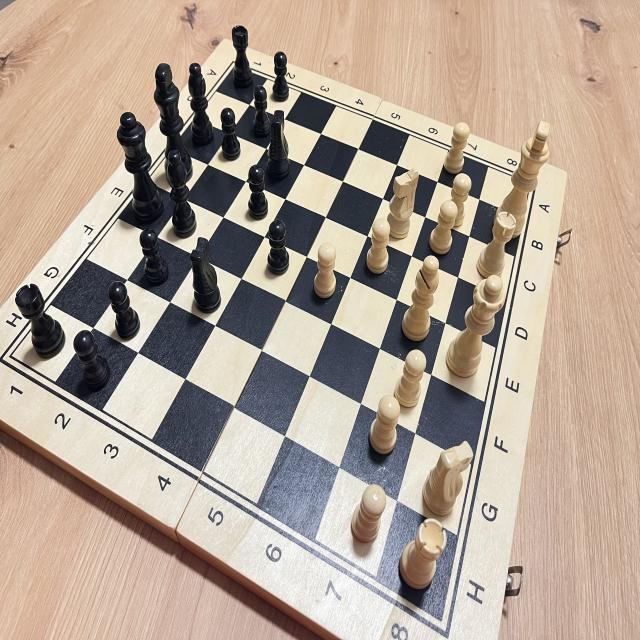black-bishop: (156, 143, 202, 240), (184, 59, 220, 154)
black-king: (145, 56, 199, 192), (148, 56, 198, 190)
black-knight: (184, 229, 224, 322), (258, 108, 296, 188)
black-pawn: (71, 325, 113, 399), (105, 275, 145, 346), (135, 222, 174, 294), (239, 162, 273, 223), (263, 215, 294, 281), (246, 83, 277, 144), (268, 46, 296, 110), (216, 104, 244, 167)
black-queen: (109, 104, 168, 226)
black-rook: (11, 278, 70, 365), (222, 22, 263, 92)
white-bishop: (395, 247, 445, 344)
white-king: (491, 111, 555, 251)
white-knight: (416, 429, 474, 526), (383, 158, 421, 244)
white-pawn: (345, 476, 390, 556), (390, 344, 434, 418), (364, 392, 404, 466), (425, 192, 463, 264), (438, 112, 476, 179), (309, 236, 343, 305), (364, 212, 394, 284), (444, 167, 476, 234)
white-queen: (444, 273, 508, 393)
white-rook: (393, 515, 451, 598), (471, 206, 520, 292)
